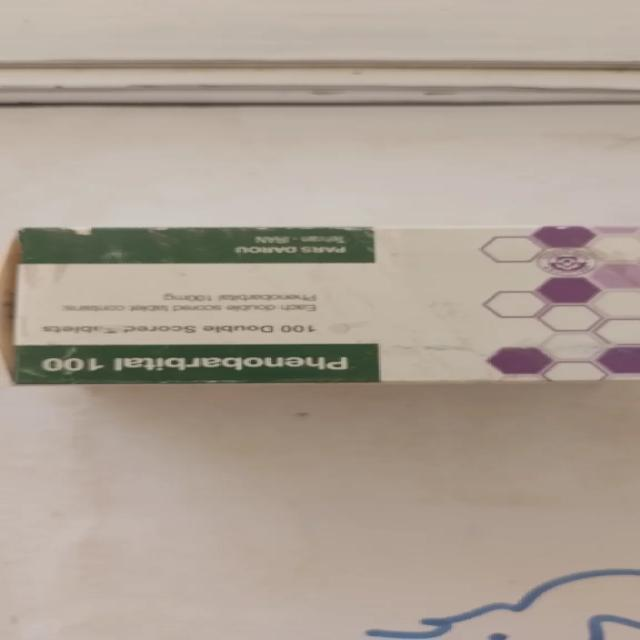drug-name: (39, 355, 356, 375)
